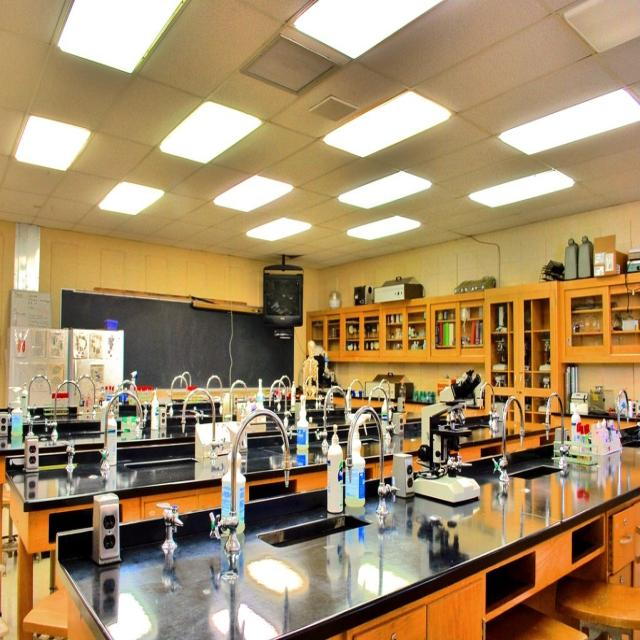Medical Waste: (0, 233, 640, 578)
